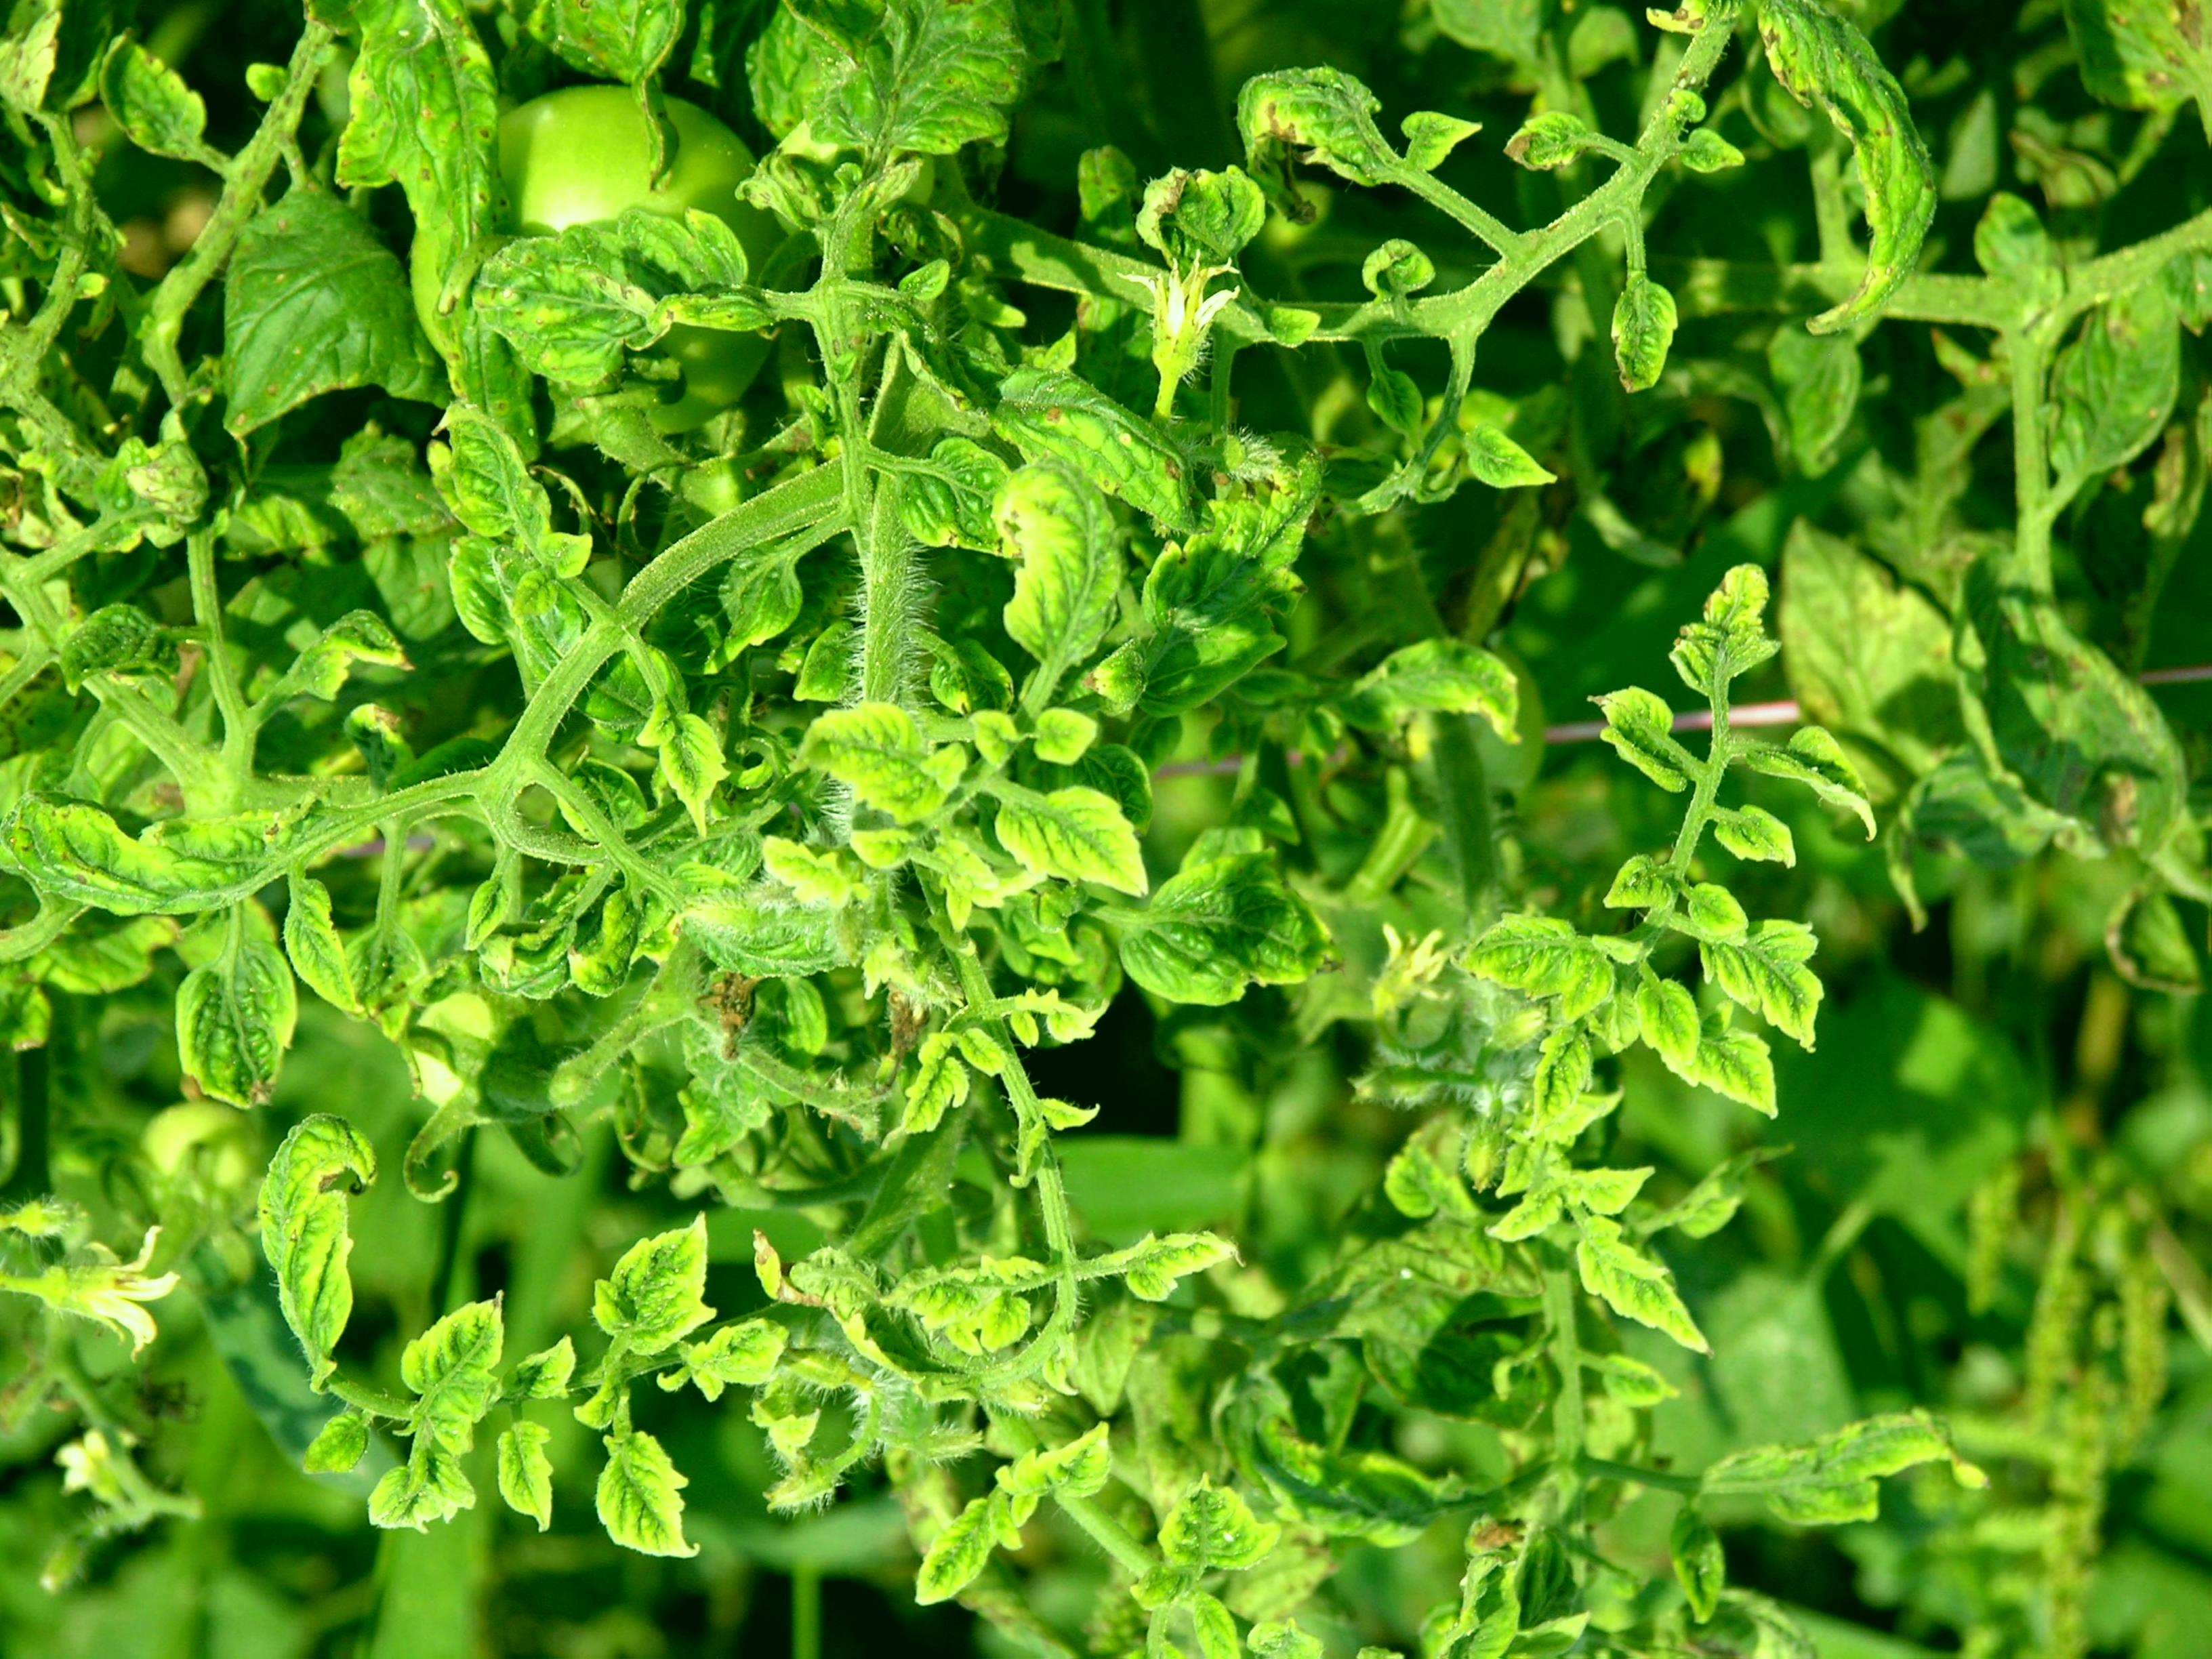Tomato leaf yellow virus: (386, 184, 803, 394), (1746, 0, 2000, 289), (303, 0, 505, 283), (1099, 828, 1382, 1015), (775, 682, 1040, 867), (998, 349, 1222, 554), (407, 344, 578, 607), (251, 1097, 384, 1373), (1218, 48, 1433, 219), (1671, 844, 1839, 1045), (372, 1270, 529, 1484), (984, 766, 1170, 932), (988, 458, 1130, 670), (588, 1180, 741, 1372), (171, 912, 306, 1111), (566, 1420, 712, 1591), (1639, 544, 1793, 703), (1551, 1221, 1719, 1364), (1153, 1462, 1313, 1586), (885, 1264, 1080, 1363), (1111, 1195, 1259, 1310), (1657, 1020, 1783, 1119), (1018, 1399, 1124, 1509)
